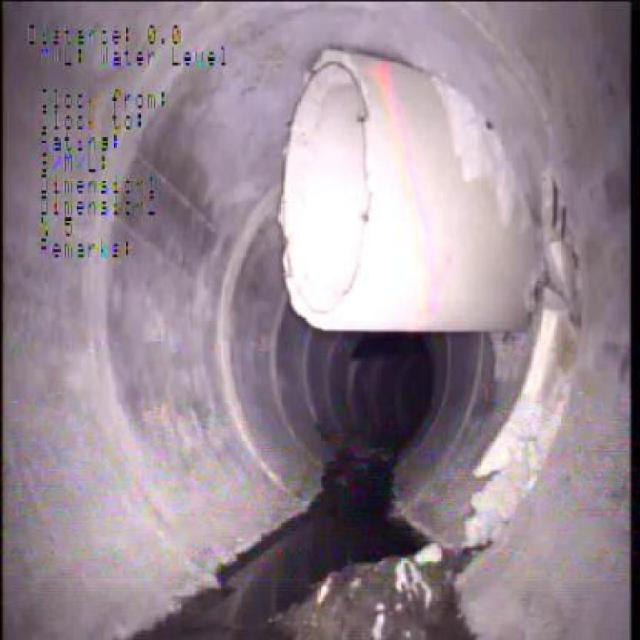Debris: (274, 543, 466, 639)
Utility intrusion: (271, 45, 552, 340)
